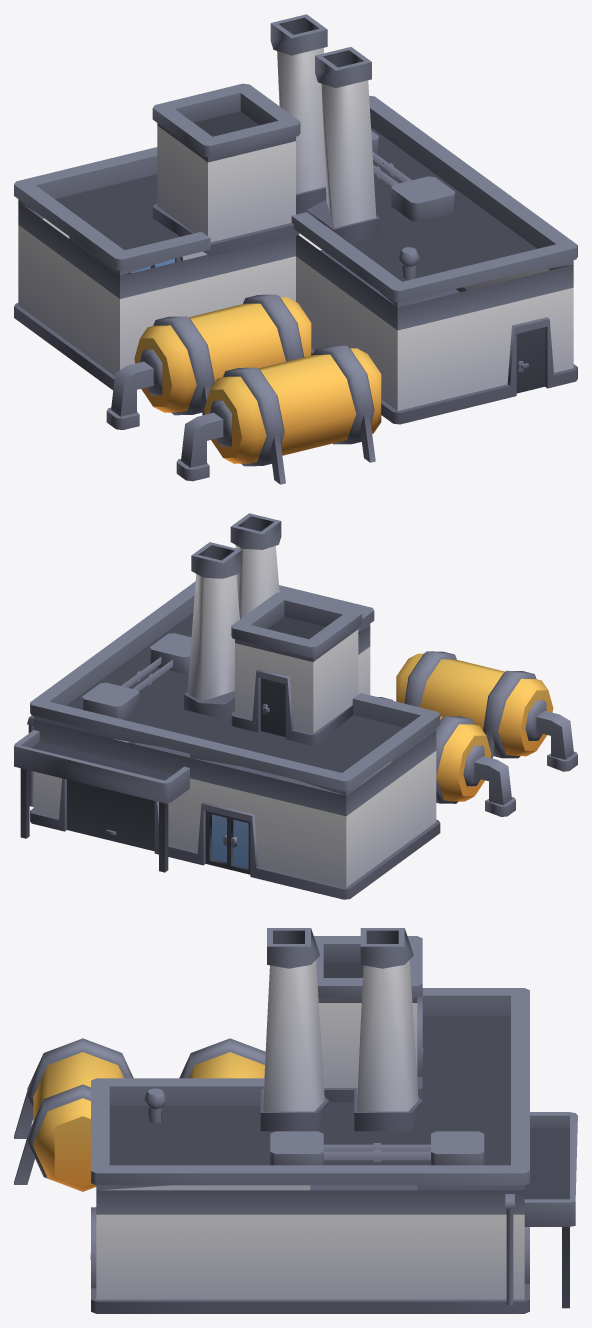
The model's file is building-c.lod.glb.
3 views of the same model, one above another, from view 1: azimuth 30°, elevation 25°; view 2: azimuth 150°, elevation 25°; view 3: azimuth 270°, elevation 25° (orthographic). The views are drawn at different scales.
Visible parts, largest first — view 1: building-c; view 2: building-c; view 3: building-c.
Part boxes in pixels (bbox=[...]): building-c: bbox=[14, 14, 577, 484]; building-c: bbox=[14, 513, 577, 899]; building-c: bbox=[14, 928, 577, 1313].
Bounding box in the file's own units: 1.87 × 1.25 × 2.11.
Materials: 1 (1 with a texture image).
